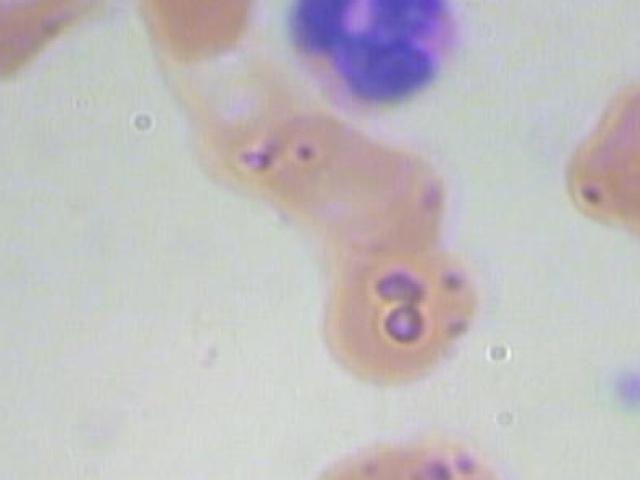Platelets: (594, 364, 640, 413)
RBC: (346, 236, 495, 375), (308, 140, 456, 264), (553, 86, 640, 245), (362, 408, 529, 480), (125, 0, 264, 69), (282, 438, 431, 480), (611, 85, 640, 243)
WBC: (262, 0, 478, 122)
